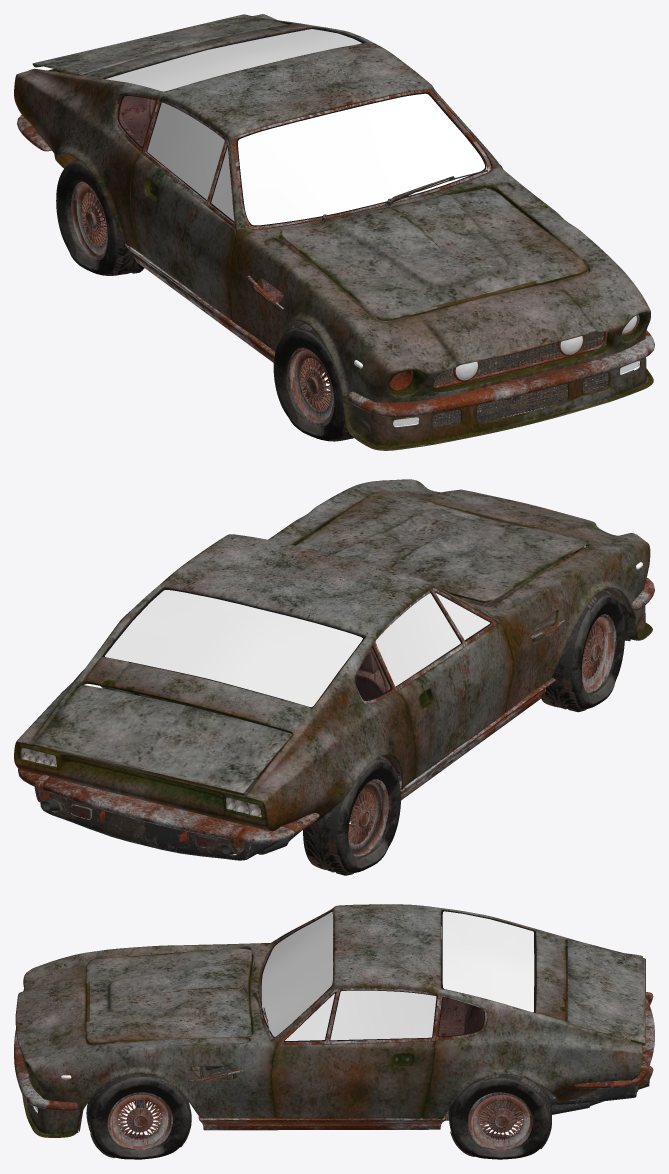
The model's file is vichle-transformed.glb.
3 renders of one model, top to bottom at view 1: azimuth 30°, elevation 25°; view 2: azimuth 150°, elevation 25°; view 3: azimuth 270°, elevation 25°, orthographic. The views are drawn at different scales.
Parts seen in each view (by area): view 1: Body, glass, Frame, tire rubber, Secondary Details.004, FLR.004, silicon, SEAT B.001; view 2: Body, glass, Frame, tire rubber, Secondary Details.004, FLR.004, silicon, SEAT R.001, SEAT B.001; view 3: Body, glass, tire rubber, Frame, FLR.004, Secondary Details.004, silicon, SEAT B.001.
Part boxes in pixels (x1=…): Body: x1=14, y1=14, x2=653, y2=450; glass: x1=105, y1=29, x2=639, y2=427; Frame: x1=17, y1=71, x2=654, y2=417; tire rubber: x1=56, y1=159, x2=353, y2=441; Secondary Details.004: x1=77, y1=158, x2=633, y2=428; FLR.004: x1=71, y1=181, x2=334, y2=425; silicon: x1=103, y1=28, x2=487, y2=226; SEAT B.001: x1=119, y1=96, x2=347, y2=303; Body: x1=14, y1=479, x2=652, y2=831; glass: x1=105, y1=562, x2=642, y2=707; Frame: x1=18, y1=547, x2=654, y2=853; tire rubber: x1=303, y1=590, x2=624, y2=875; Secondary Details.004: x1=40, y1=530, x2=630, y2=860; FLR.004: x1=348, y1=614, x2=616, y2=856; silicon: x1=102, y1=588, x2=491, y2=708; SEAT R.001: x1=355, y1=649, x2=385, y2=700; SEAT B.001: x1=108, y1=590, x2=400, y2=780; Body: x1=15, y1=904, x2=645, y2=1137; glass: x1=34, y1=911, x2=534, y2=1112; tire rubber: x1=86, y1=1074, x2=552, y2=1159; Frame: x1=14, y1=909, x2=654, y2=1130; FLR.004: x1=107, y1=1092, x2=532, y2=1149; Secondary Details.004: x1=35, y1=965, x2=649, y2=1132; silicon: x1=260, y1=910, x2=536, y2=1041; SEAT B.001: x1=233, y1=911, x2=534, y2=1077.
Bounding box in the file's own units: 2.28 × 1.44 × 5.18.
Materials: 11 (9 with a texture image).
